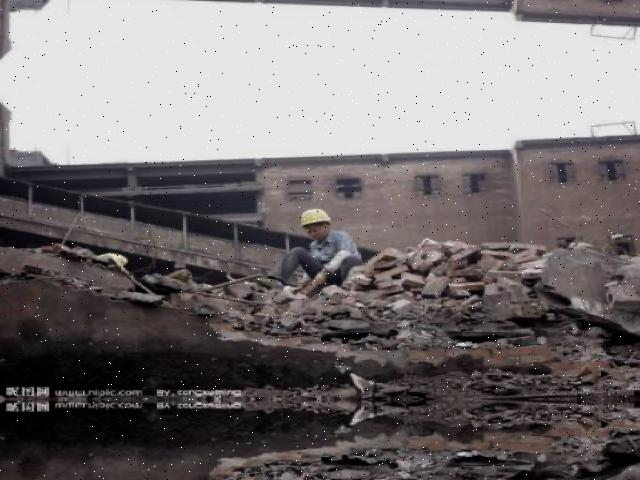Helmet: (293, 206, 333, 230)
